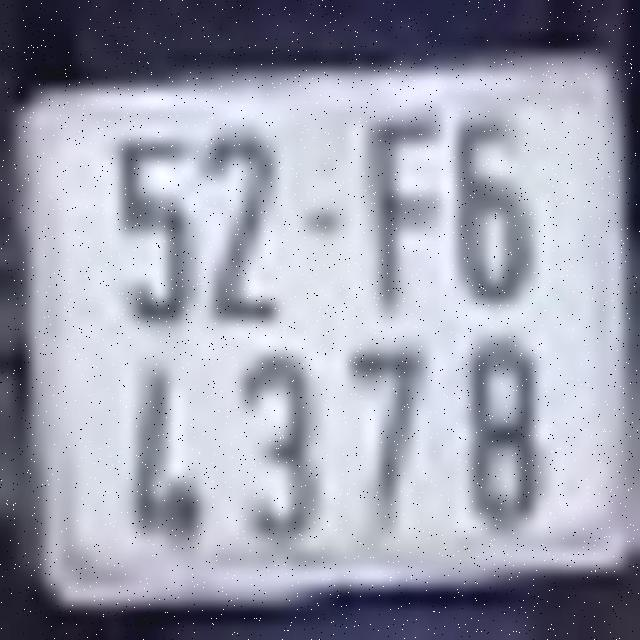2: (205, 126, 284, 326)
3: (237, 350, 321, 539)
4: (129, 360, 206, 559)
5: (115, 132, 197, 325)
6: (454, 112, 534, 304)
7: (346, 342, 426, 534)
8: (465, 336, 541, 530)
F: (366, 111, 444, 314)
